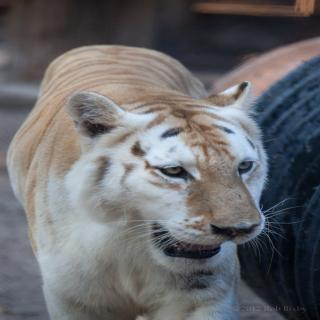Tiger: (3, 44, 307, 320)
